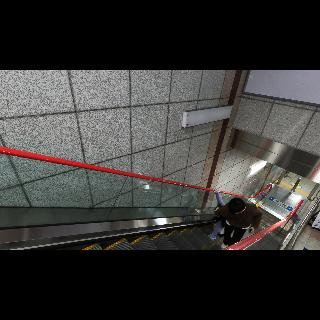anomaly: (213, 187, 230, 247)
normal: (215, 197, 268, 250)
